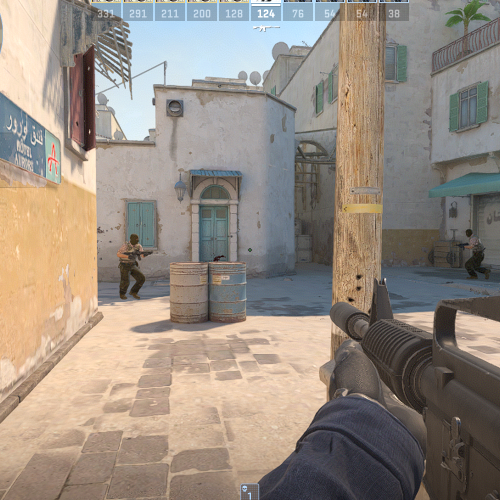t_body: (116, 233, 146, 300), (462, 227, 491, 280)
t_head: (129, 234, 139, 245), (464, 228, 473, 239)
